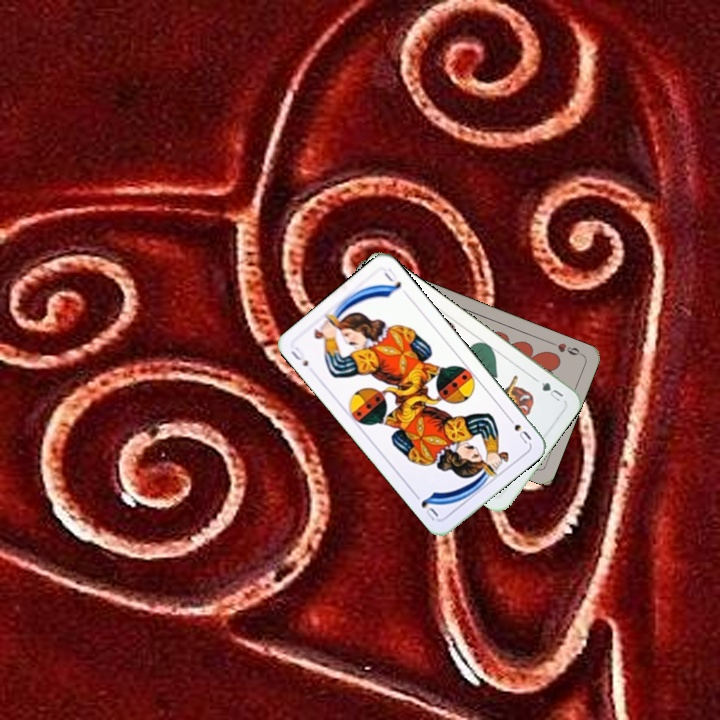GU: (537, 378, 566, 404)
H9: (546, 338, 585, 358)
SU: (503, 412, 534, 446), (287, 343, 311, 369)
